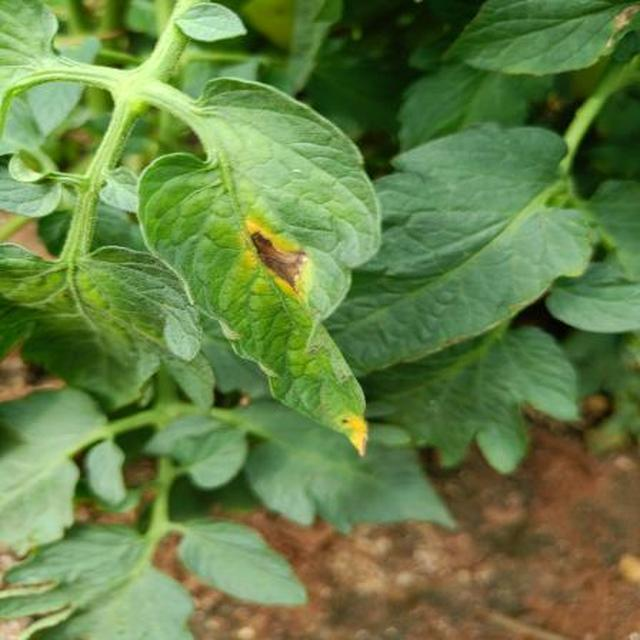Early Blight Leaf: (186, 111, 553, 640)
